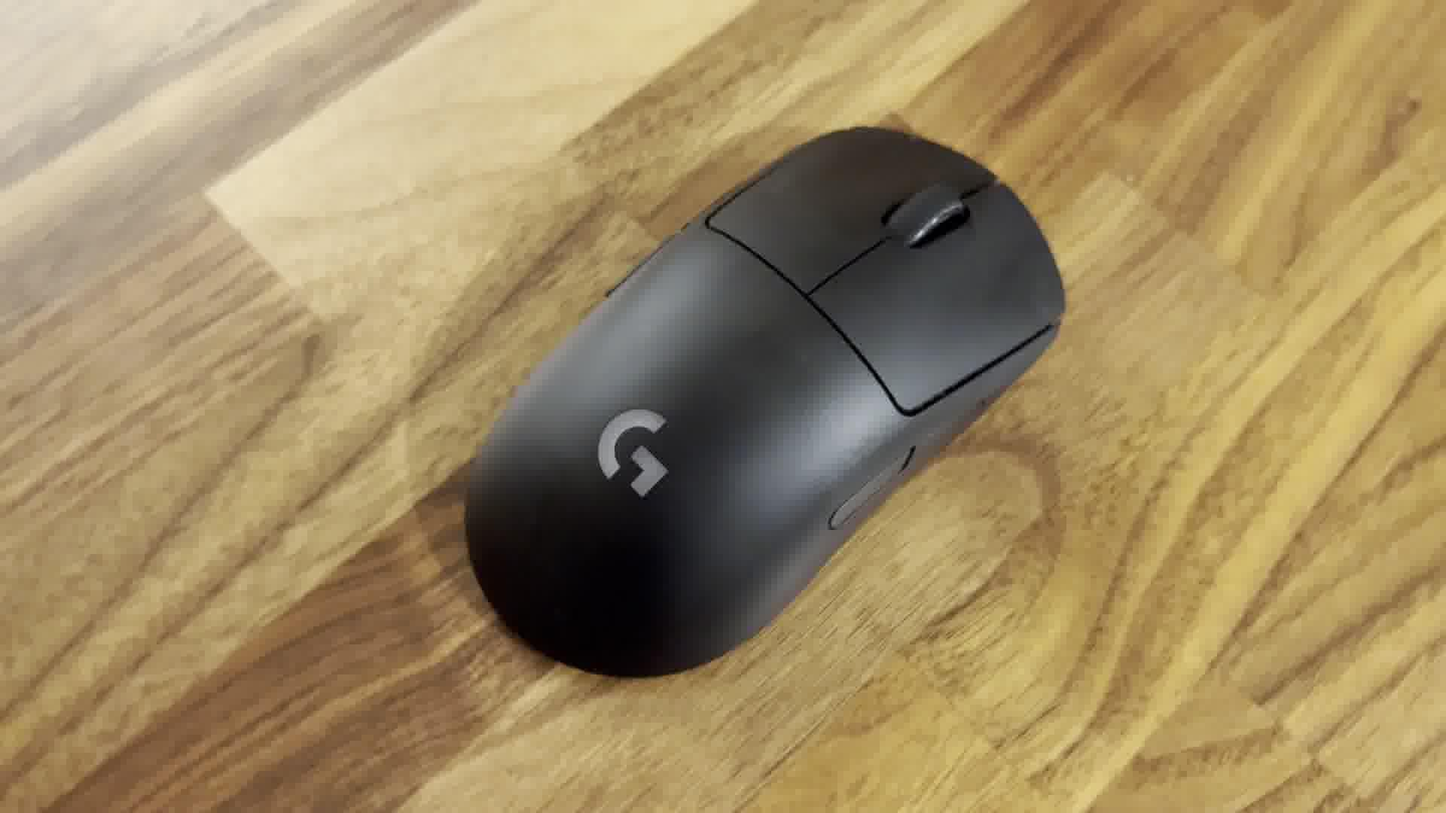logicool: (464, 125, 1068, 683)
